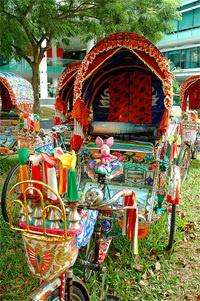Rickshaw: (8, 33, 179, 300), (0, 72, 38, 155), (177, 75, 199, 180), (53, 62, 80, 147)
